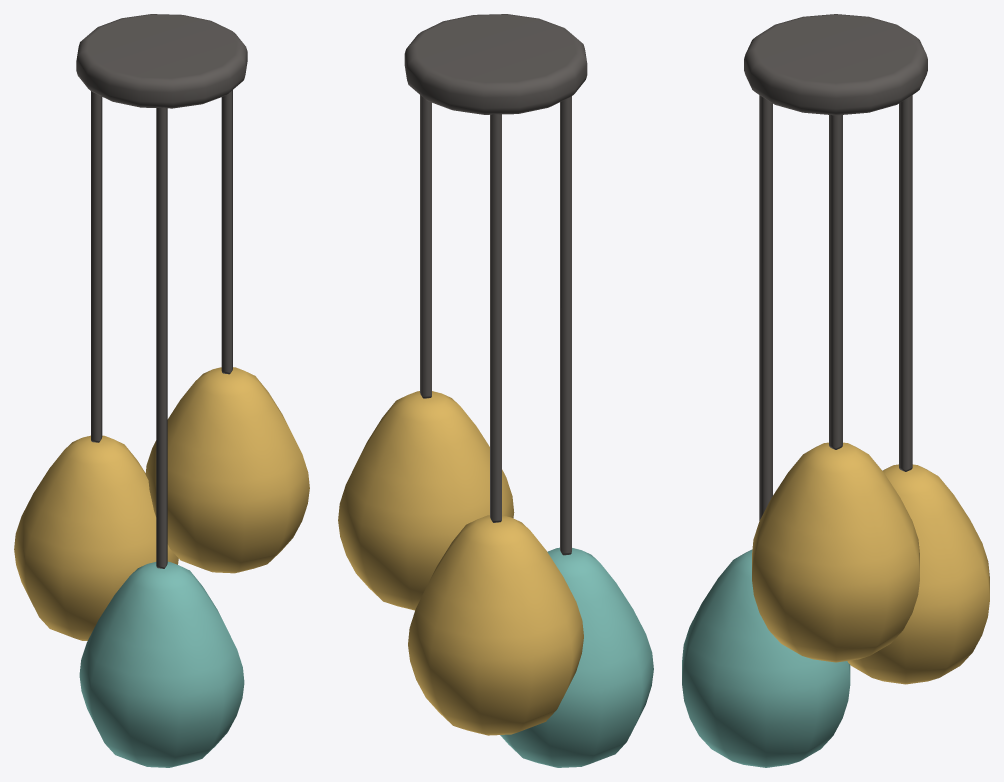
The model's file is tiered_lantern_cluster.glb.
The picture shows the model from 3 angles, left to right: view 1: azimuth 30°, elevation 25°; view 2: azimuth 150°, elevation 25°; view 3: azimuth 270°, elevation 25°; orthographic projection. The views are drawn at different scales.
Visible parts, largest first — view 1: tiered_lantern_cluster_mesh; view 2: tiered_lantern_cluster_mesh; view 3: tiered_lantern_cluster_mesh.
Boxes of the visible parts, x1,y1,x2,y2 form: tiered_lantern_cluster_mesh: (14,14,309,767); tiered_lantern_cluster_mesh: (338,14,653,767); tiered_lantern_cluster_mesh: (682,14,989,767).
Size of the model in its own units: 0.2587 by 0.7 by 0.2674.
